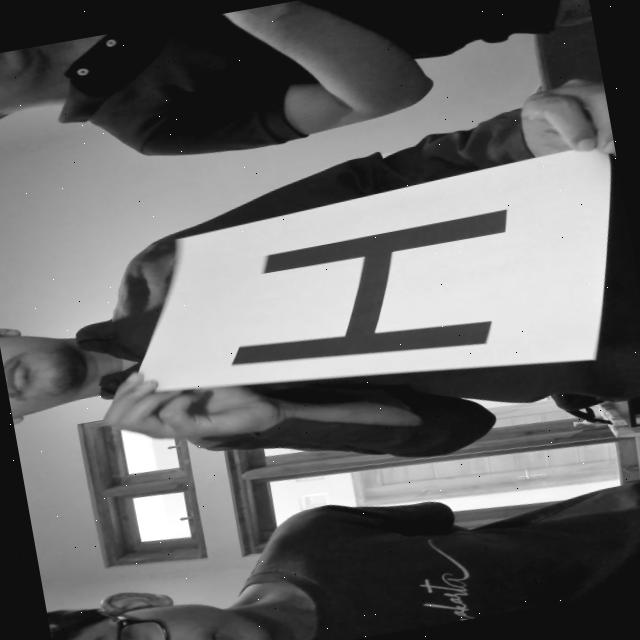h: (194, 173, 586, 402)
